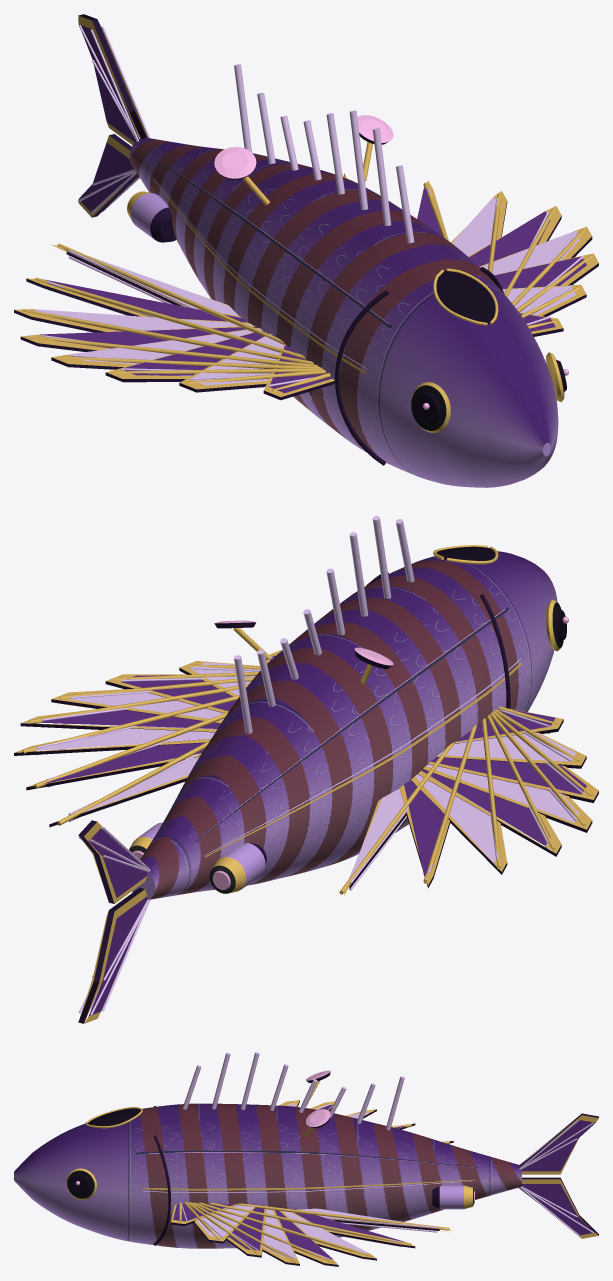
The picture shows the model from 3 angles, top to bottom: view 1: azimuth 30°, elevation 25°; view 2: azimuth 150°, elevation 25°; view 3: azimuth 270°, elevation 25°; orthographic projection. The views are drawn at different scales.
Parts seen in each view (by area): view 1: lionfish_hull; view 2: lionfish_hull; view 3: lionfish_hull.
Boxes of the visible parts, x1,y1,x2,y2 form: lionfish_hull: (14, 14, 598, 487); lionfish_hull: (14, 516, 598, 1023); lionfish_hull: (14, 1052, 598, 1266).
Bounding box in the file's own units: 25.23 × 13.71 × 38.
1 material, 1 textured.
